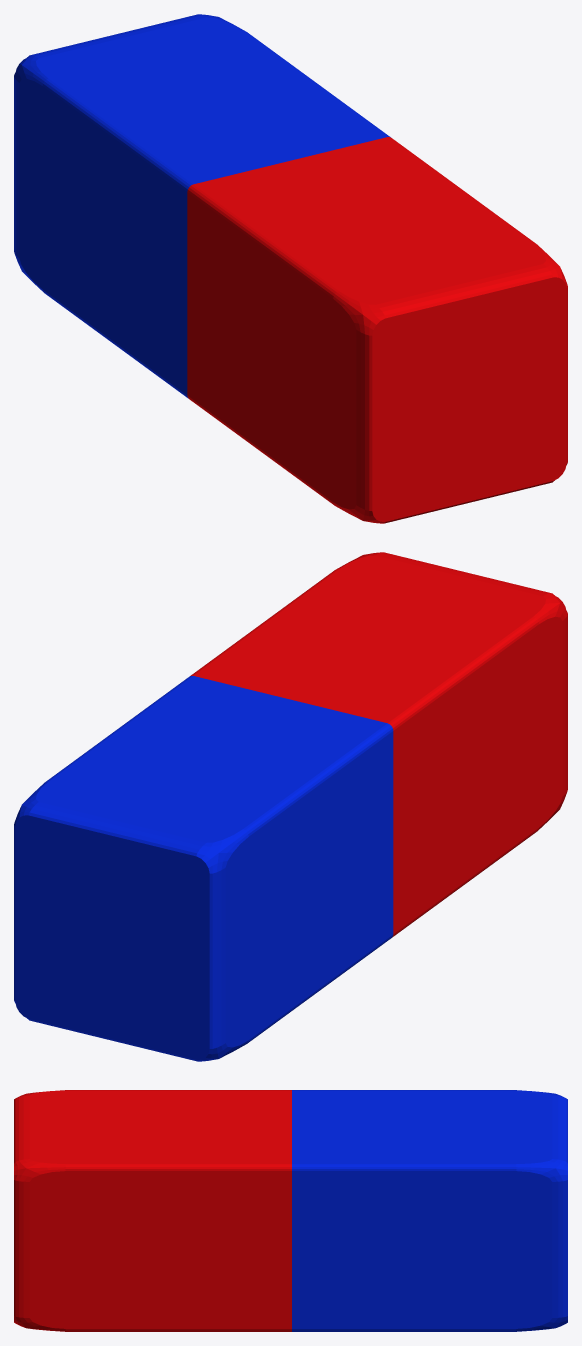
File: BarMagnet.fbx
3 renders of one model, top to bottom at view 1: azimuth 30°, elevation 25°; view 2: azimuth 150°, elevation 25°; view 3: azimuth 270°, elevation 25°, orthographic. The views are drawn at different scales.
Visible parts, largest first — view 1: Cube; view 2: Cube; view 3: Cube.
Boxes of the visible parts, x1,y1,x2,y2 form: Cube: (14, 14, 567, 523); Cube: (14, 552, 567, 1061); Cube: (14, 1090, 567, 1331).
Bounding box in the file's own units: 200 × 200 × 600.
